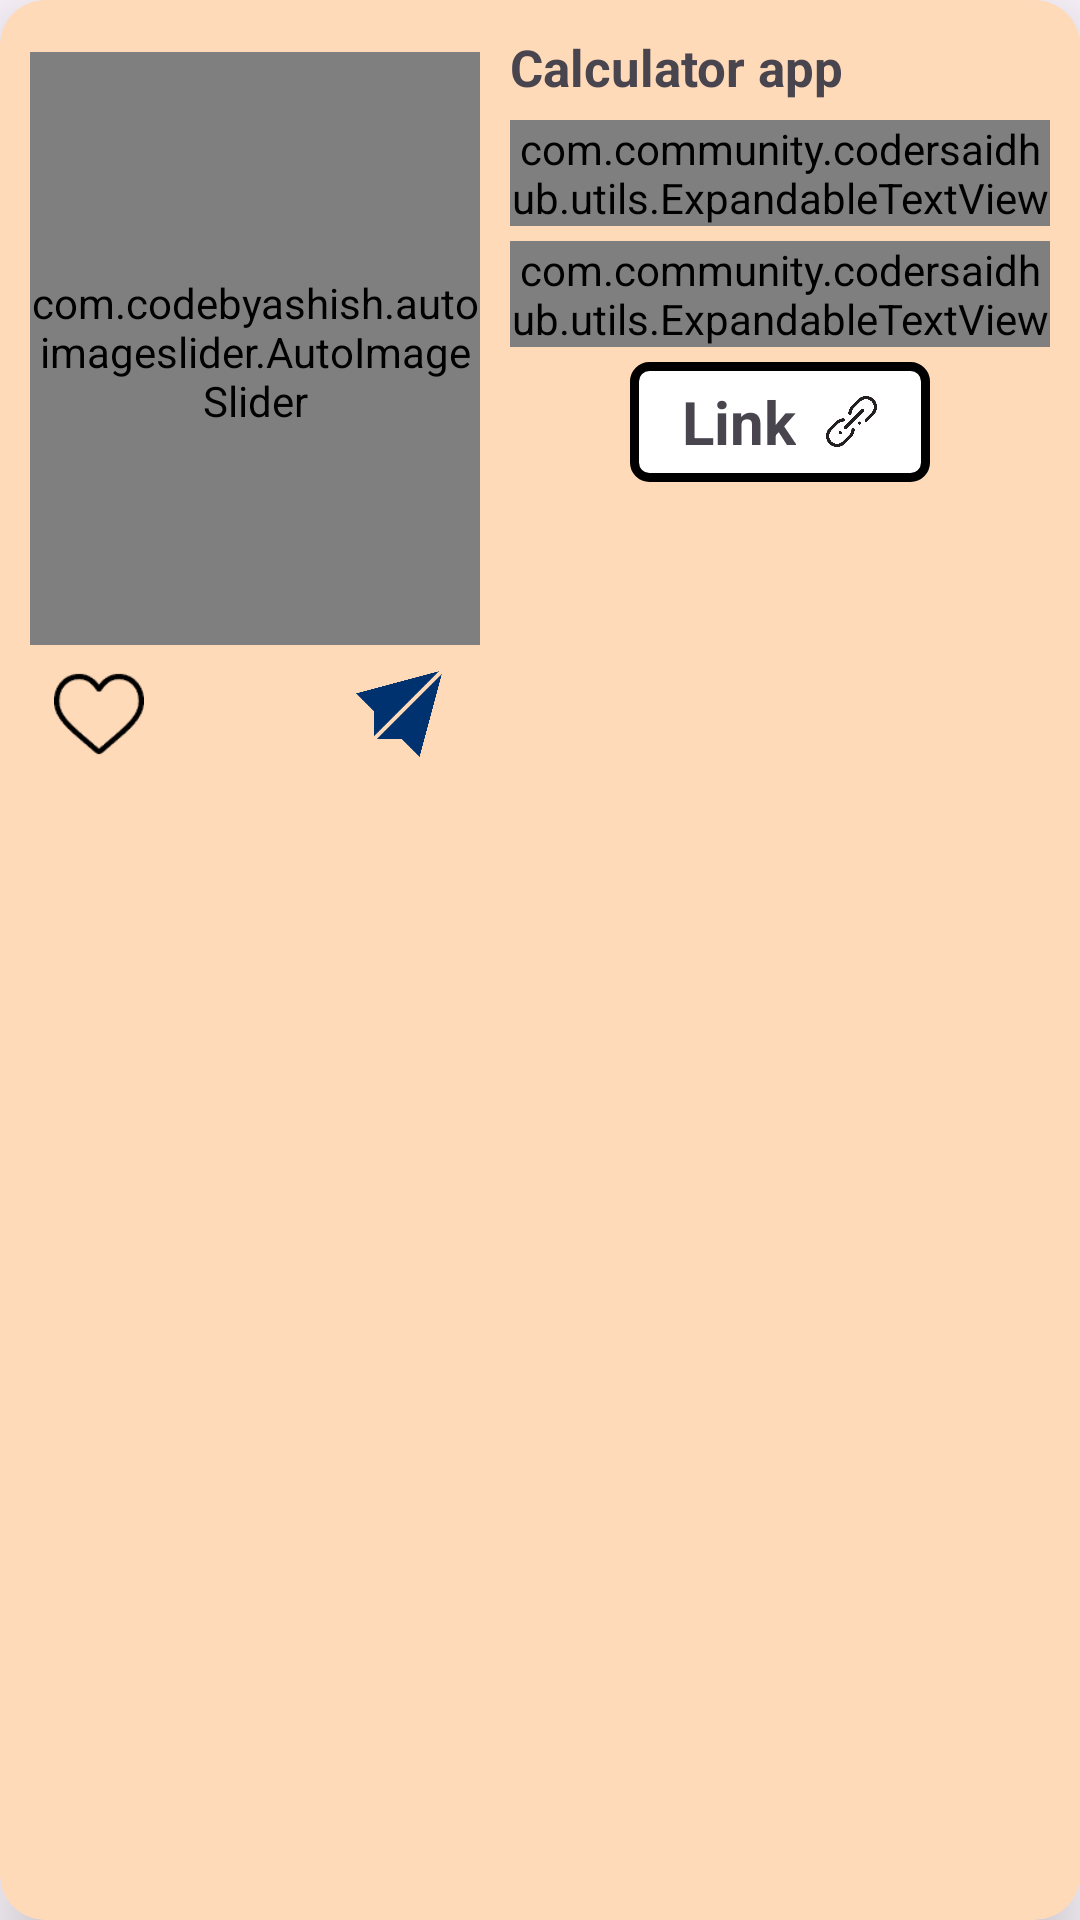

Icons on this 1080 × 1920 Android screen, each with the point to tap as point (x, y):
heart: point (99, 714)
send: point (399, 714)
